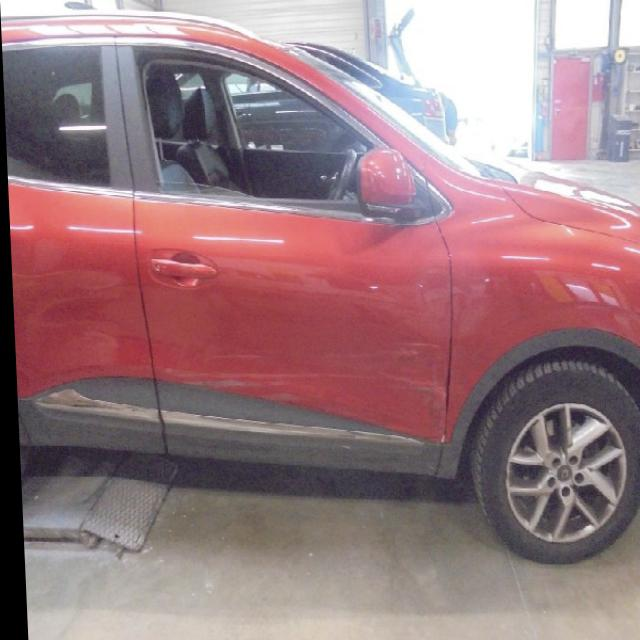porte-avant: (114, 34, 432, 450)
